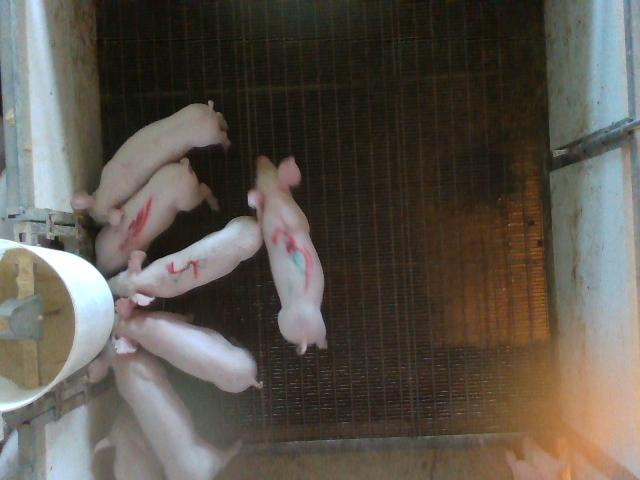pig-1: (95, 158, 219, 276)
pig-3: (248, 156, 328, 354)
pig-5: (109, 218, 261, 306)
